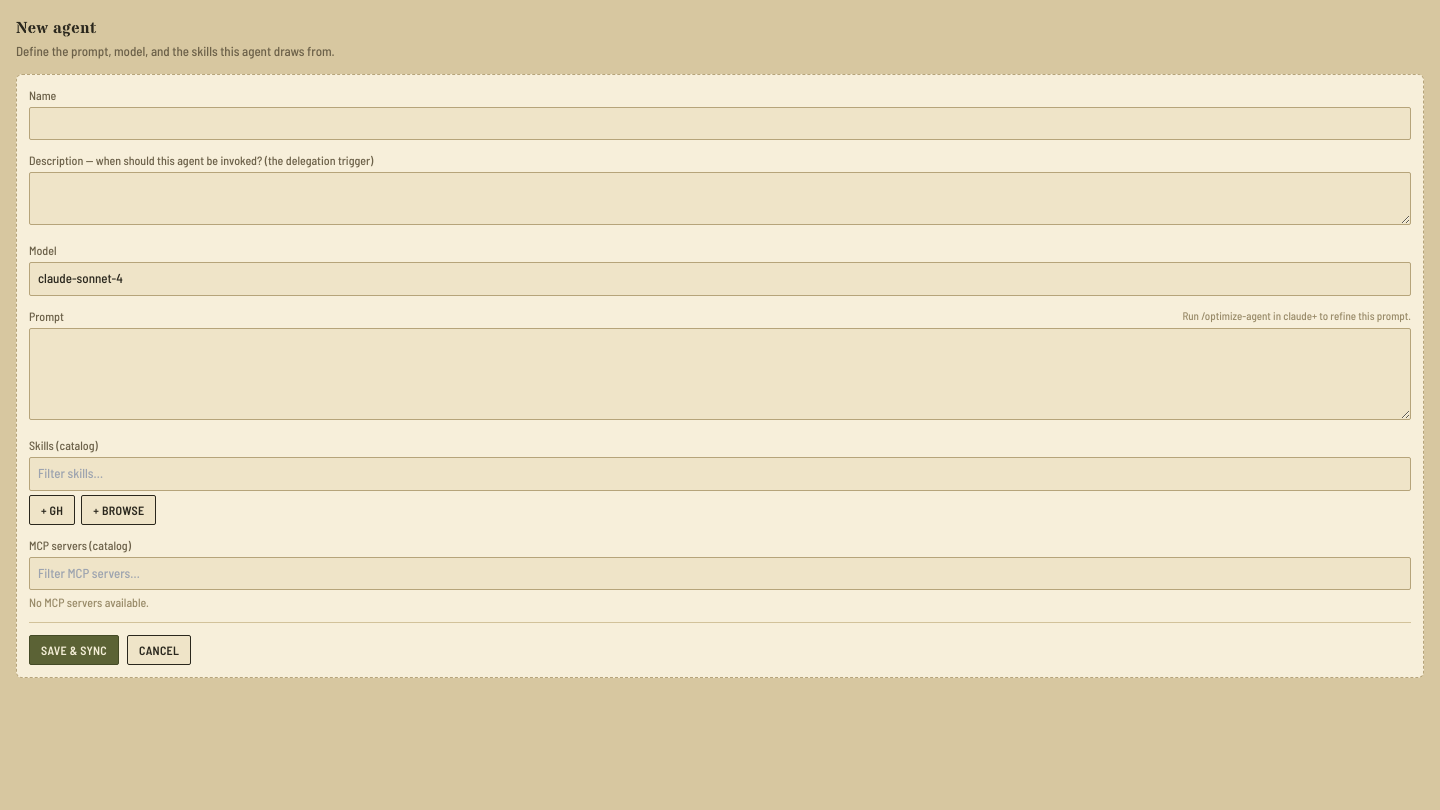
Test: AgentEditor (U17) › filters the skill catalog as you type
Expected: the button with test id "catalog-skill-gh" is shown, [29,494,75,524]
Expected: the button with test id "catalog-skill-browse" is shown, [81,494,156,524]
Note: Typing filters down to the matching skill.
In the field with test id "skill-filter": (720, 474) [29,457,1411,490], type "brow"
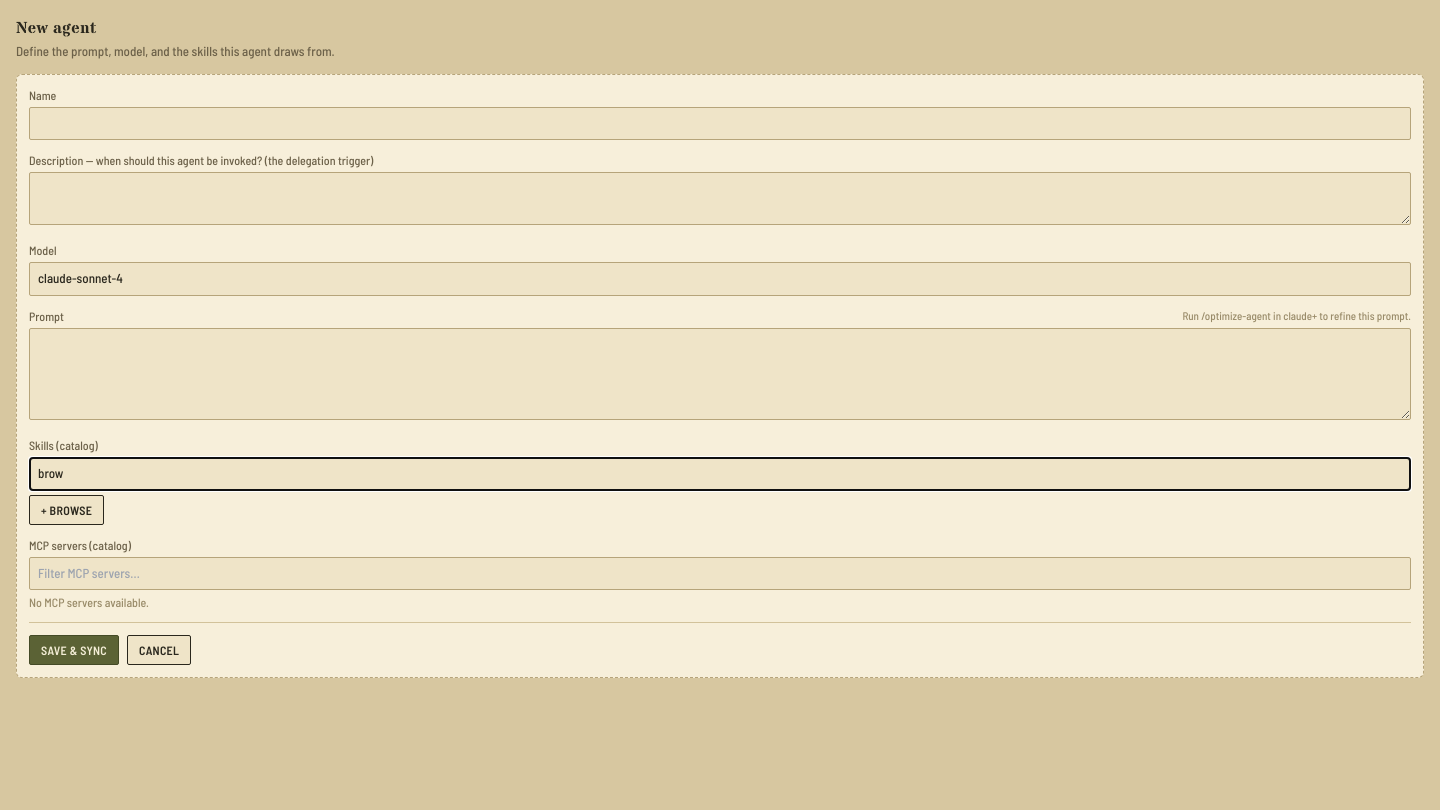
Expected: the button with test id "catalog-skill-browse" is shown, [29,494,104,524]
Result: the button with test id "catalog-skill-gh" is gone
